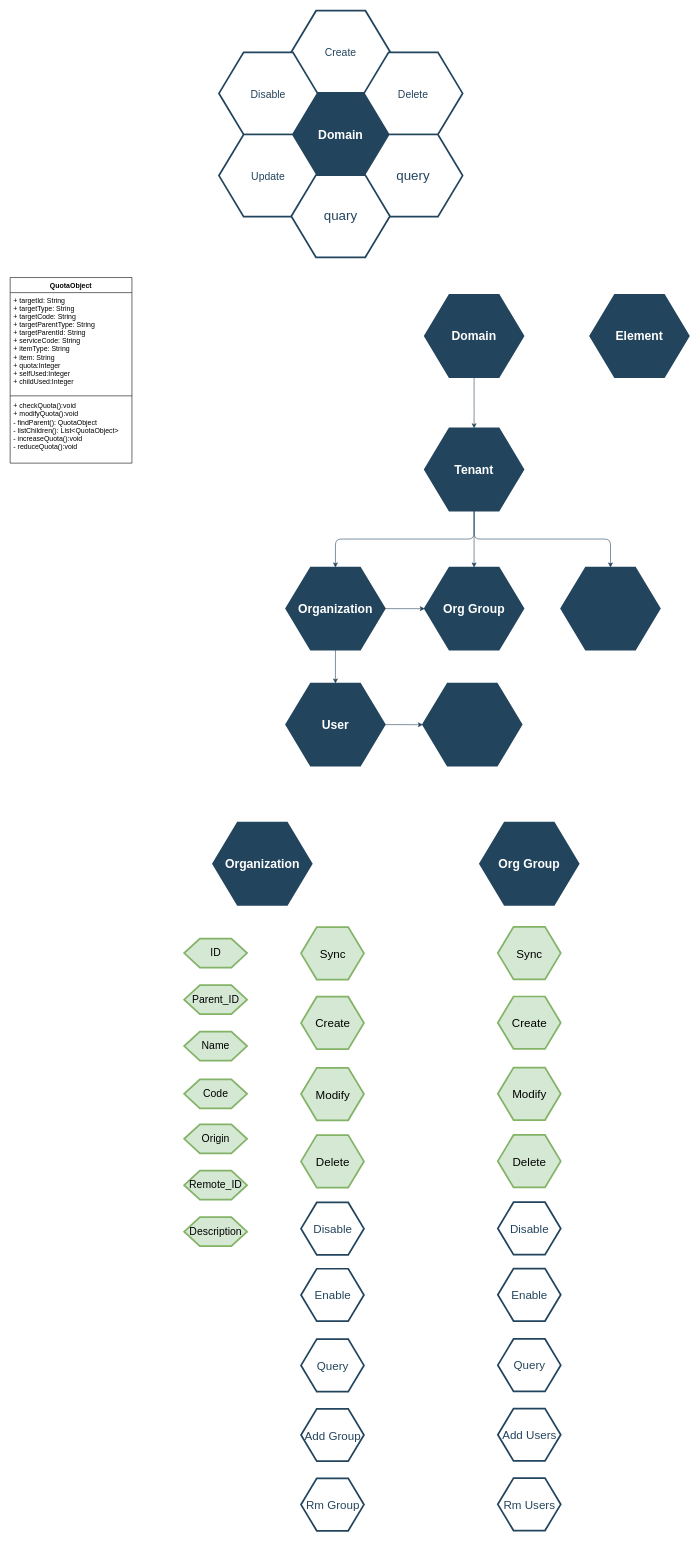
Some shapes in this 700 by 1542 pixel diagram are drawn without their labels. Here are the shapes that lost their labels. From the top down, the box of each, then its label:
(560, 566, 660, 650): Role
(422, 682, 522, 766): User Group
